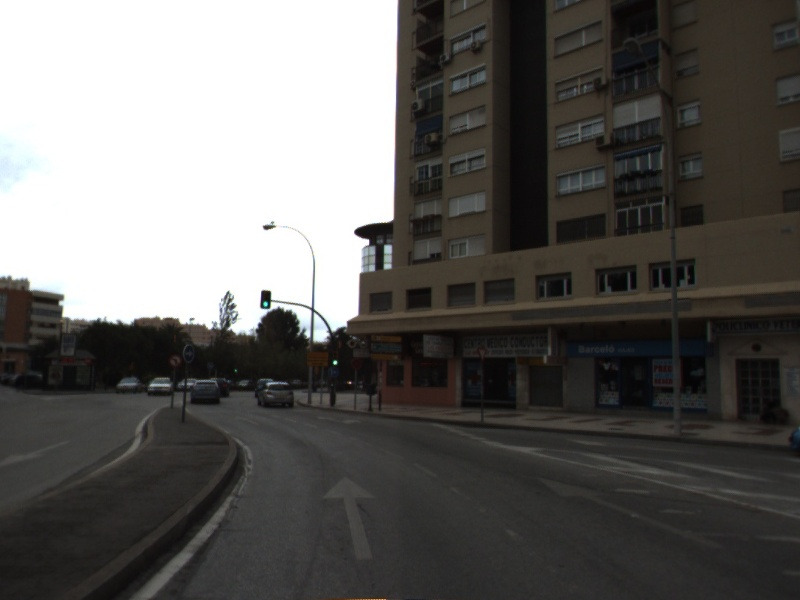STRAIGHT: (535, 475, 728, 551), (319, 473, 380, 562)
